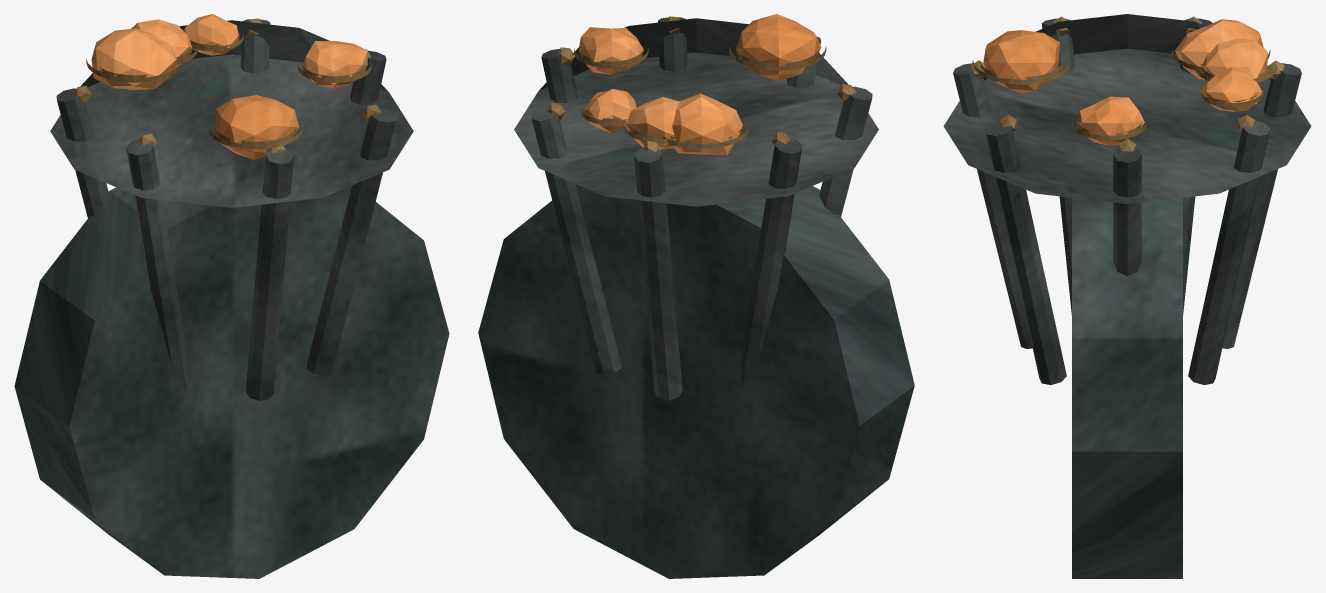
File: 0546_brazier_21.glb
The picture shows the model from 3 angles, left to right: view 1: azimuth 30°, elevation 25°; view 2: azimuth 150°, elevation 25°; view 3: azimuth 270°, elevation 25°; orthographic projection.
Parts seen in each view (by area): view 1: stone_dark, iron, amber, brass; view 2: stone_dark, iron, amber, brass; view 3: iron, stone_dark, amber, brass.
Boxes of the visible parts, x1,y1,x2,y2 form: stone_dark: (14,185,449,578); iron: (50,19,413,400); amber: (91,14,367,159); brass: (72,18,381,153); stone_dark: (478,184,914,578); iron: (514,17,878,400); amber: (578,14,821,155); brass: (546,16,856,151); iron: (943,14,1311,384); stone_dark: (1072,197,1182,578); amber: (983,19,1267,145); brass: (970,16,1284,151).
Bounding box in the file's own units: 1.4 × 1.78 × 1.16.
Materials: 4 (4 with a texture image).
